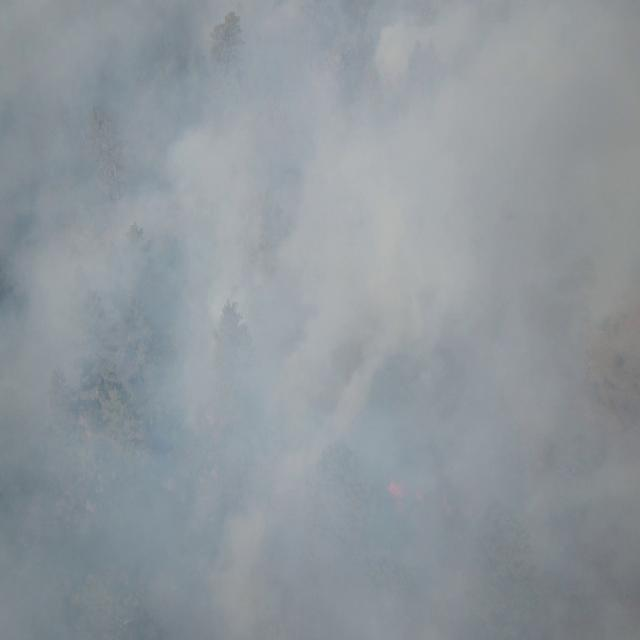fire: (385, 473, 408, 512), (436, 488, 454, 518), (411, 485, 426, 504)
smoke: (0, 0, 640, 640)
